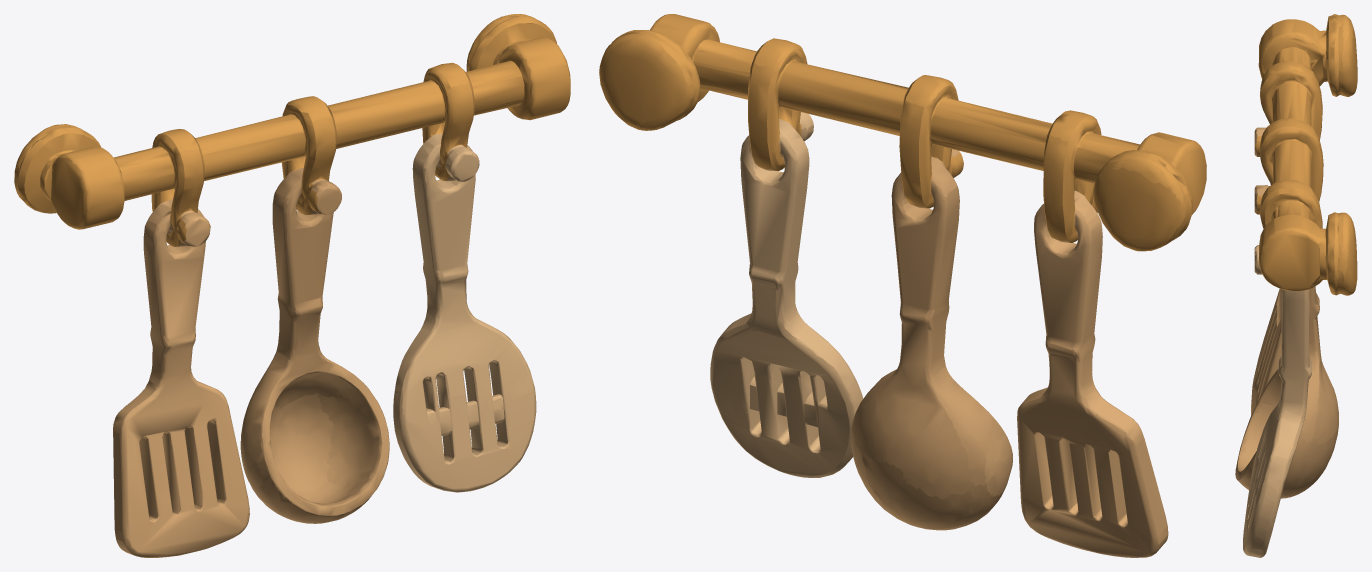
File: utensil-rail.glb
3 renders of one model, left to right at view 1: azimuth 30°, elevation 25°; view 2: azimuth 150°, elevation 25°; view 3: azimuth 270°, elevation 25°, orthographic. The views are drawn at different scales.
Visible parts, largest first — view 1: 挂钩杆, 锅铲, 漏勺, 汤勺; view 2: 挂钩杆, 锅铲, 汤勺, 漏勺; view 3: 挂钩杆, 漏勺, 汤勺, 锅铲.
Part boxes in pixels (x1,y1,x2,y2): 挂钩杆: (14,14,570,246); 锅铲: (113,199,267,557); 漏勺: (393,133,536,492); 汤勺: (240,167,389,523); 挂钩杆: (599,14,1206,251); 锅铲: (984,190,1168,557); 汤勺: (851,149,1012,530); 漏勺: (710,112,863,477); 挂钩杆: (1254,14,1357,295); 漏勺: (1243,245,1311,557); 汤勺: (1235,185,1338,498); 锅铲: (1251,127,1281,415).
Bounding box in the file's own units: 1.01 × 0.7483 × 0.2202.
